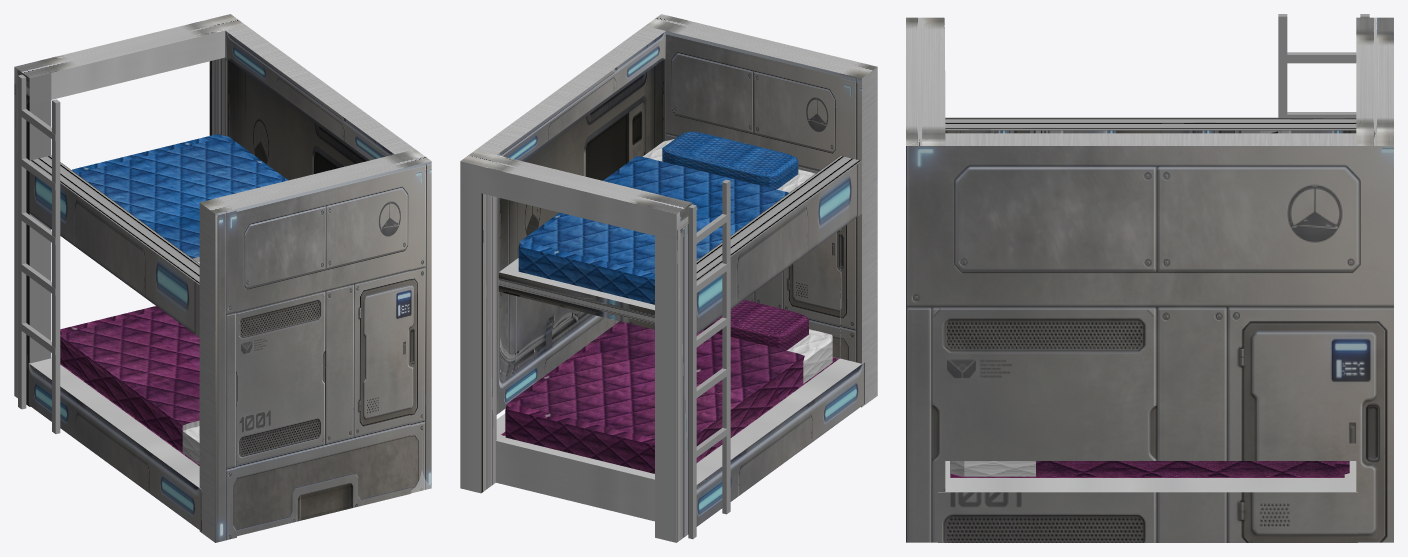
The model's file is camas.fbx.
The picture shows the model from 3 angles, left to right: view 1: azimuth 30°, elevation 25°; view 2: azimuth 150°, elevation 25°; view 3: azimuth 270°, elevation 25°; orthographic projection. The views are drawn at different scales.
Visible parts, largest first — view 1: Cubo.005; view 2: Cubo.005; view 3: Cubo.005.
Boxes of the visible parts, x1,y1,x2,y2 form: Cubo.005: (14, 14, 431, 542); Cubo.005: (460, 14, 877, 542); Cubo.005: (906, 14, 1393, 542).
Bounding box in the file's own units: 988 × 1400 × 1542.
6 materials, 6 textured.
